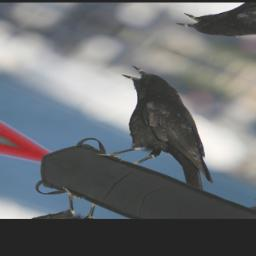Crow: (51, 62, 256, 197)
